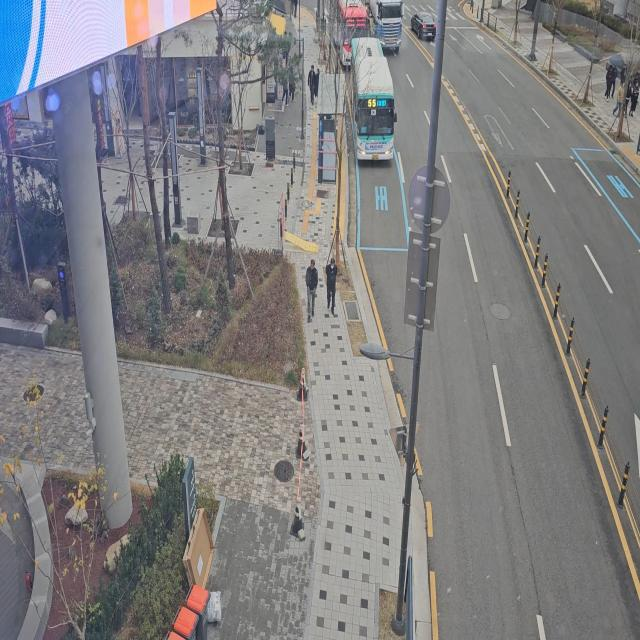Bus: (350, 34, 397, 170), (331, 0, 372, 71)
Car: (406, 1, 441, 45)
Truck: (368, 0, 404, 56)
